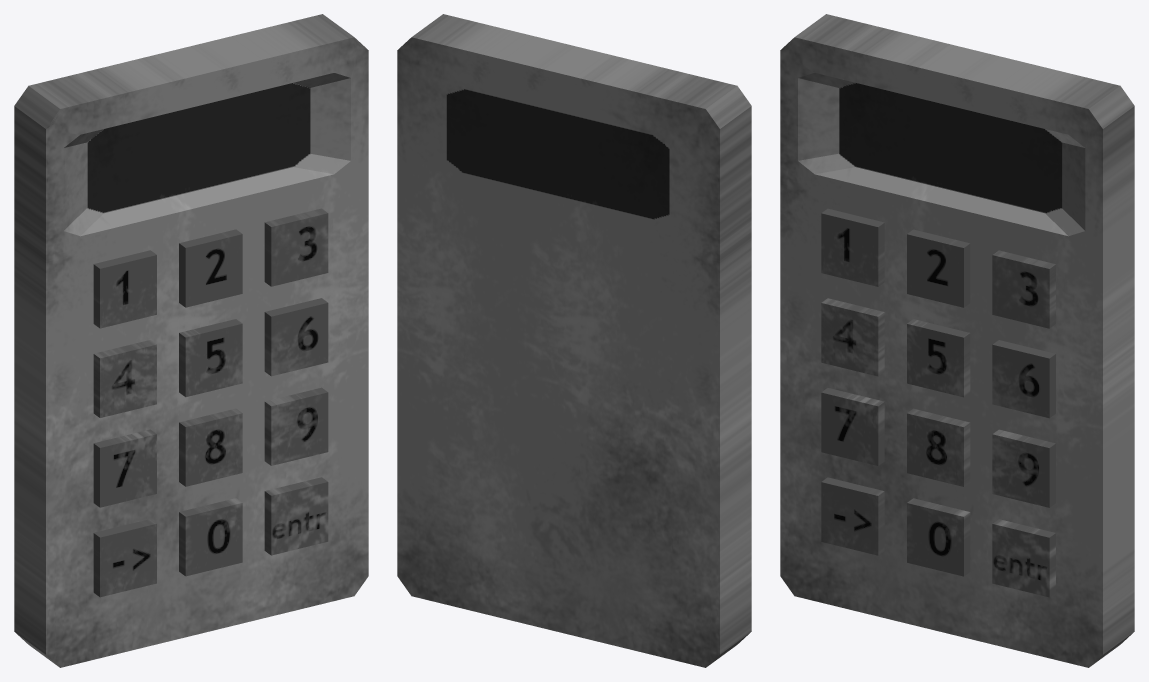
File: Lock.fbx
3 views of the same model, side by side, from view 1: azimuth 30°, elevation 25°; view 2: azimuth 150°, elevation 25°; view 3: azimuth 330°, elevation 25° (orthographic).
Visible parts, largest first — view 1: Cube, Cube.006, Cube.012, Cube.003, Cube.009, Cube.005, Cube.007, Cube.001, Cube.002, Cube.010, Cube.011, Cube.004 (+1 smaller); view 2: Cube; view 3: Cube, Cube.009, Cube.002, Cube.004, Cube.005, Cube.006, Cube.001, Cube.003, Cube.007, Cube.010, Cube.011, Cube.012 (+1 smaller).
Boxes of the visible parts, box(x1,y1,x2,y2) form: Cube: box(14, 14, 368, 667); Cube.006: box(264, 298, 328, 376); Cube.012: box(264, 477, 328, 555); Cube.003: box(264, 208, 328, 286); Cube.009: box(264, 387, 328, 465); Cube.005: box(179, 319, 242, 397); Cube.007: box(93, 429, 156, 507); Cube.001: box(93, 250, 156, 328); Cube.002: box(179, 229, 242, 307); Cube.010: box(93, 519, 156, 597); Cube.011: box(179, 498, 242, 576); Cube.004: box(93, 340, 156, 417); Cube: box(397, 14, 751, 667); Cube: box(780, 14, 1134, 667); Cube.009: box(992, 429, 1055, 507); Cube.002: box(907, 229, 970, 307); Cube.004: box(821, 298, 884, 376); Cube.005: box(907, 319, 970, 397); Cube.006: box(992, 340, 1055, 418); Cube.001: box(821, 208, 884, 286); Cube.003: box(992, 250, 1055, 328); Cube.007: box(821, 388, 884, 465); Cube.010: box(821, 477, 884, 555); Cube.011: box(907, 498, 970, 576); Cube.012: box(992, 519, 1055, 597).
Bounding box in the file's own units: 225 × 373 × 46.33.
